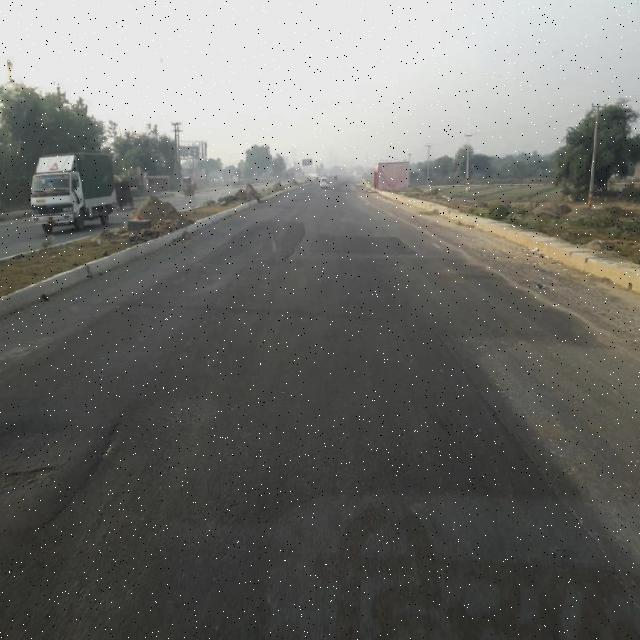D00: (438, 302, 620, 567), (47, 406, 136, 548)
D40: (6, 447, 65, 511)
